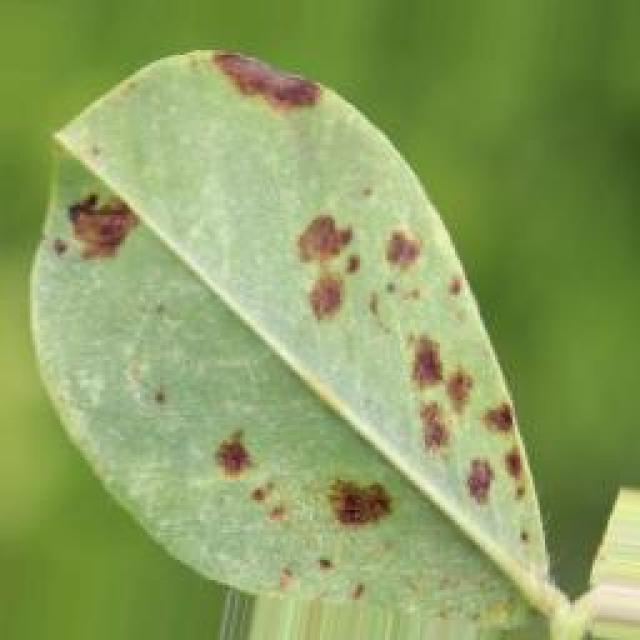Whitefly: (60, 0, 540, 622)
